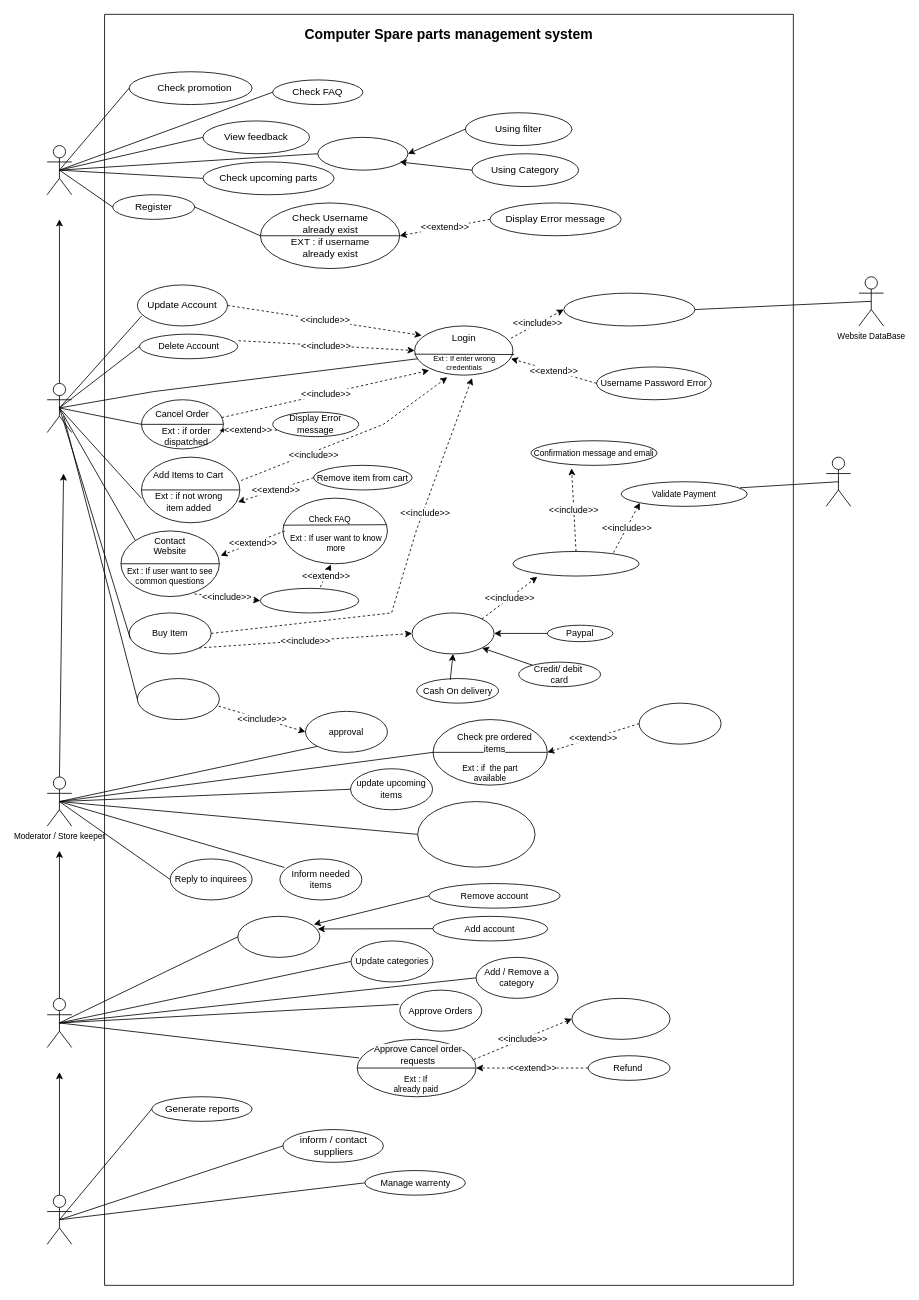
Image size: 919x1300. Some labels were removed from this diagram. The shapes that lost their labels are listed below. From the top down, each one's centre as x and y in pixels, then its label:
At [59,170]: "Customer".
At [362,153]: "Browse Items".
At [629,309]: "Validate User".
At [59,408]: "Registered Customer".
At [838,481]: "Bank".
At [575,563]: "pay / Confirm order".
At [309,600]: "Send message".
At [452,633]: "Add Payment".
At [178,699]: "Add Reviews".
At [679,723]: "Inform to customer".
At [476,834]: "Add item with descriptions".
At [278,936]: "Manage Accounts".
At [59,1023]: "Admin".
At [620,1018]: "Remove order from marked orders lists".
At [59,1219]: "Manager".
